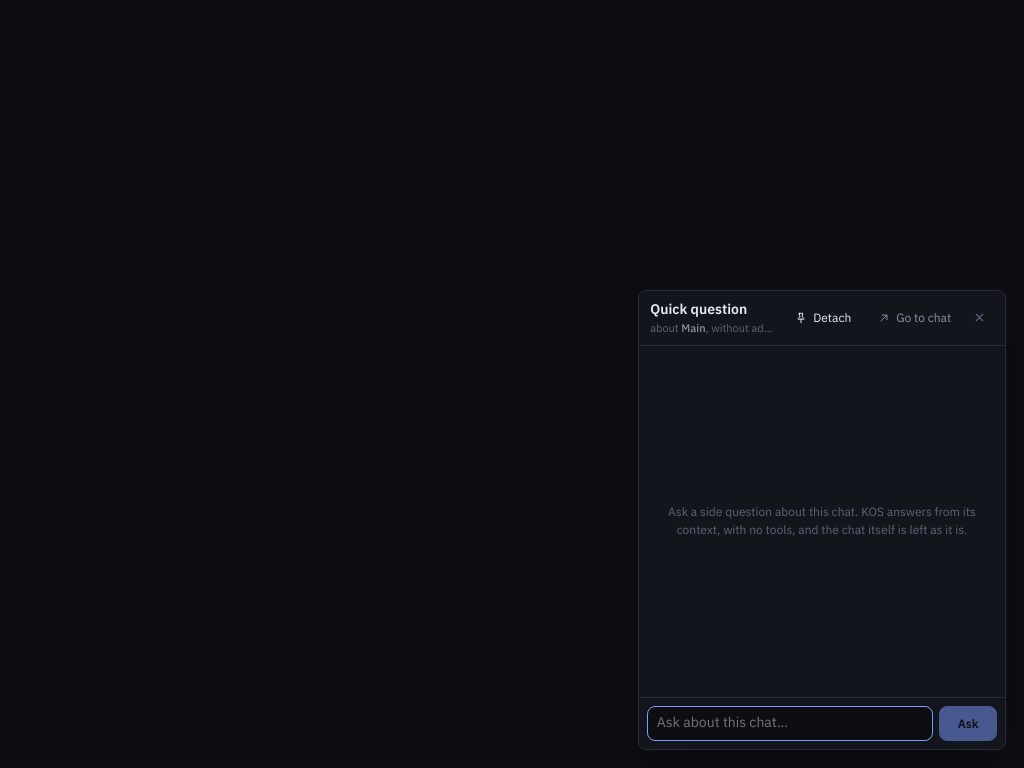
it: the quick question window › detaches from the open chat for a plain question, and attaches again
The width and height of the screenshot is (1024, 768).
Click the button "Detach": (822, 318) top-left (783, 304), bottom-right (862, 332)
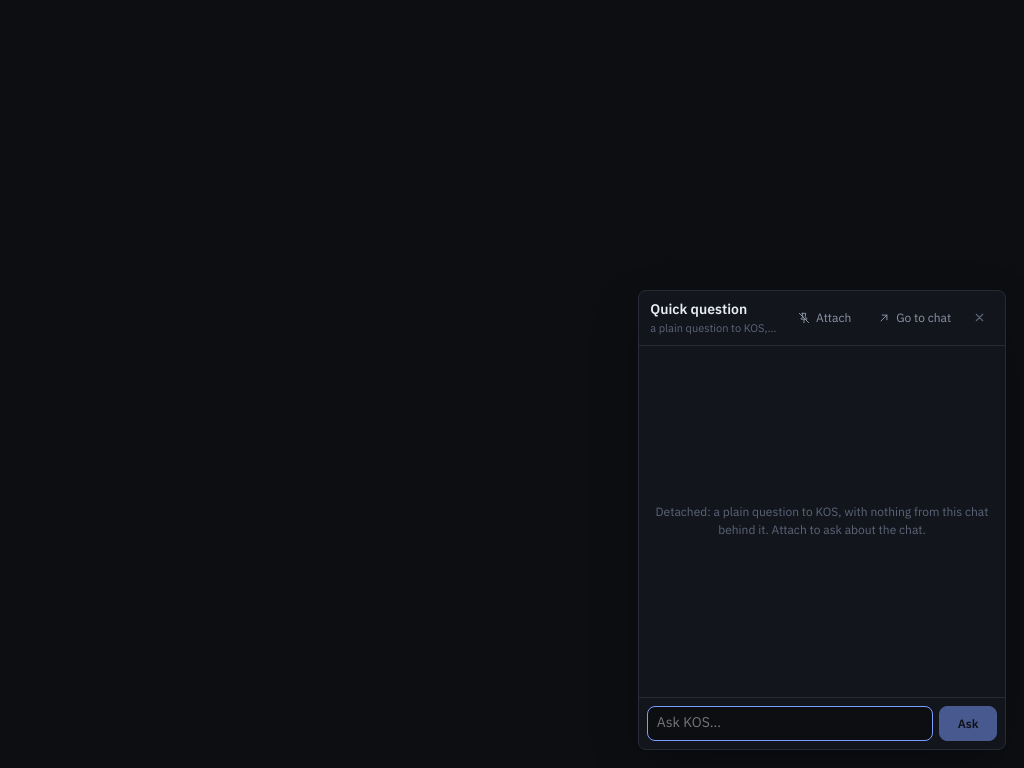
Check: the element showing "a plain question to KOS, not about Main" is shown, box top-left (650, 321), bottom-right (778, 337)
In the text box with placeholder "Ask KOS…": (790, 723) top-left (647, 706), bottom-right (933, 741), type "what is 2+2"
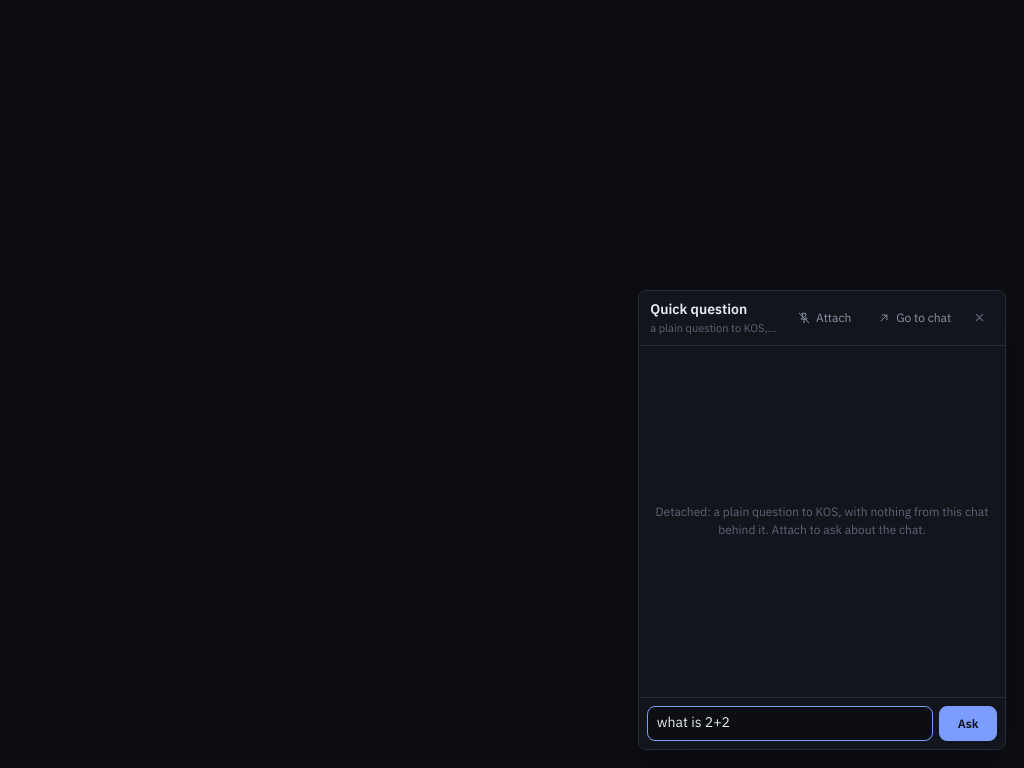
Submit the form with placeholder "Ask KOS…", box top-left (639, 697), bottom-right (1005, 749)
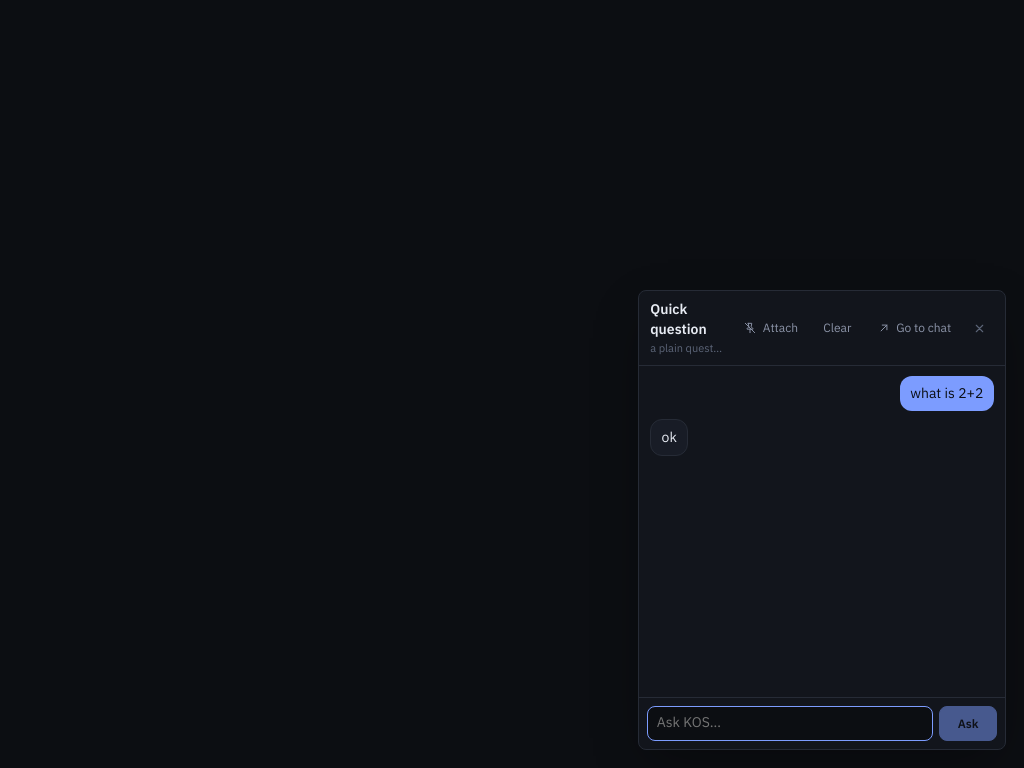
Click the button "Attach": (771, 328) top-left (733, 314), bottom-right (809, 342)
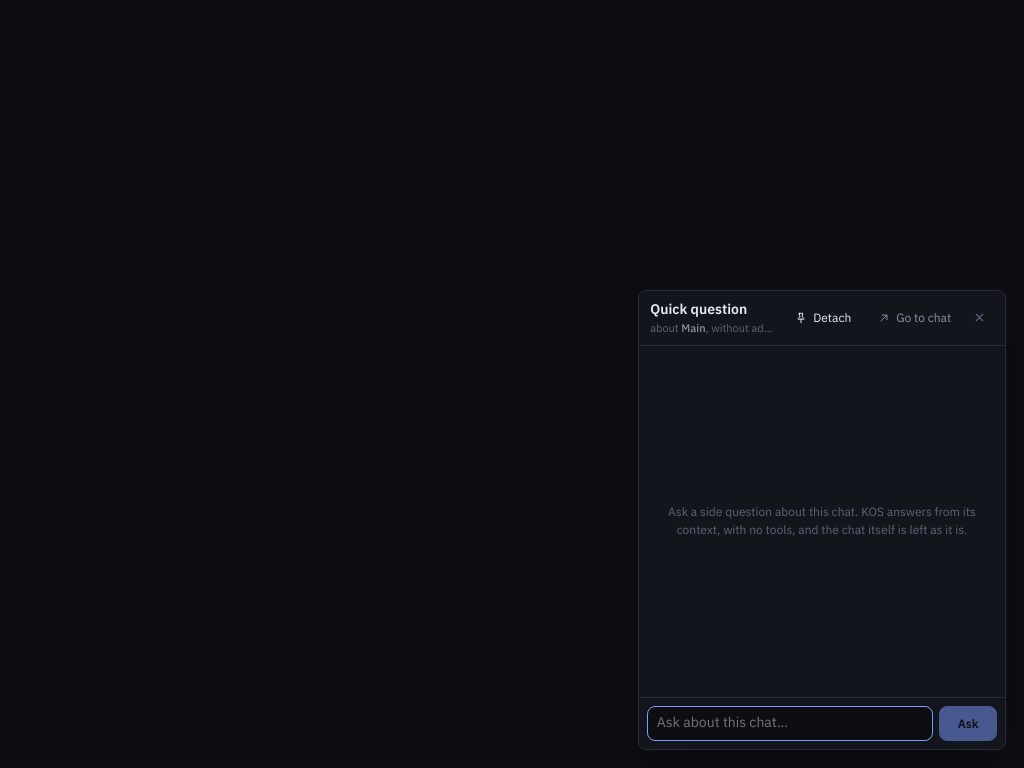
Check: the element showing "about Main, without adding to it" is shown, box top-left (650, 321), bottom-right (775, 337)
